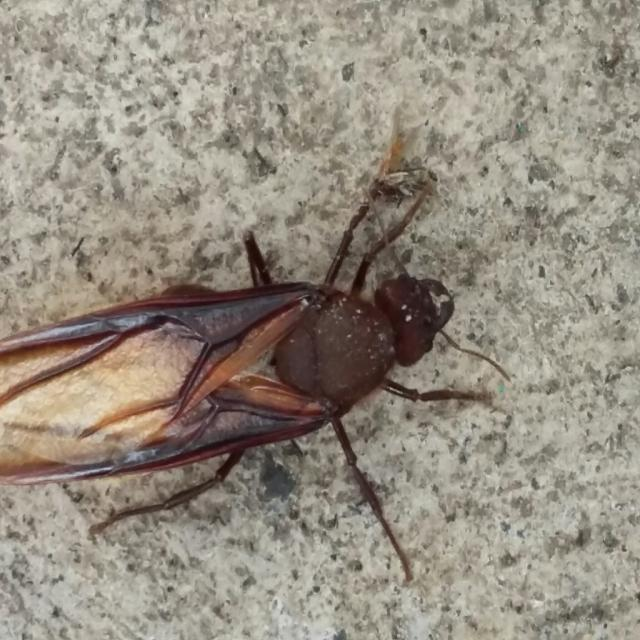Alive-Female-Alate: (0, 152, 511, 584)
